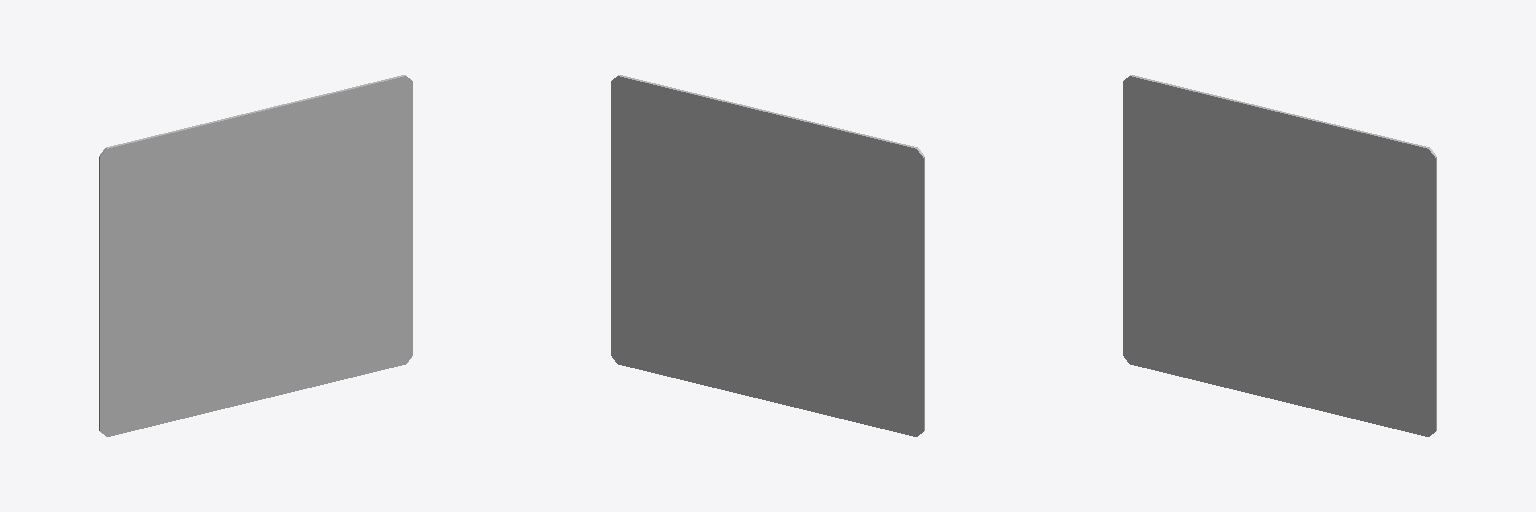
The model's file is pacs_full_riser.obj.
The picture shows the model from 3 angles: view 1: azimuth 30°, elevation 25°; view 2: azimuth 150°, elevation 25°; view 3: azimuth 330°, elevation 25°; orthographic projection.
Parts seen in each view (by area): view 1: obj1; view 2: obj1; view 3: obj1.
Part boxes in pixels (bbox=[...]): obj1: bbox=[99, 75, 412, 436]; obj1: bbox=[611, 75, 924, 436]; obj1: bbox=[1123, 75, 1436, 436].
Size of the model in its own units: 0.67 by 0.59 by 0.0064.